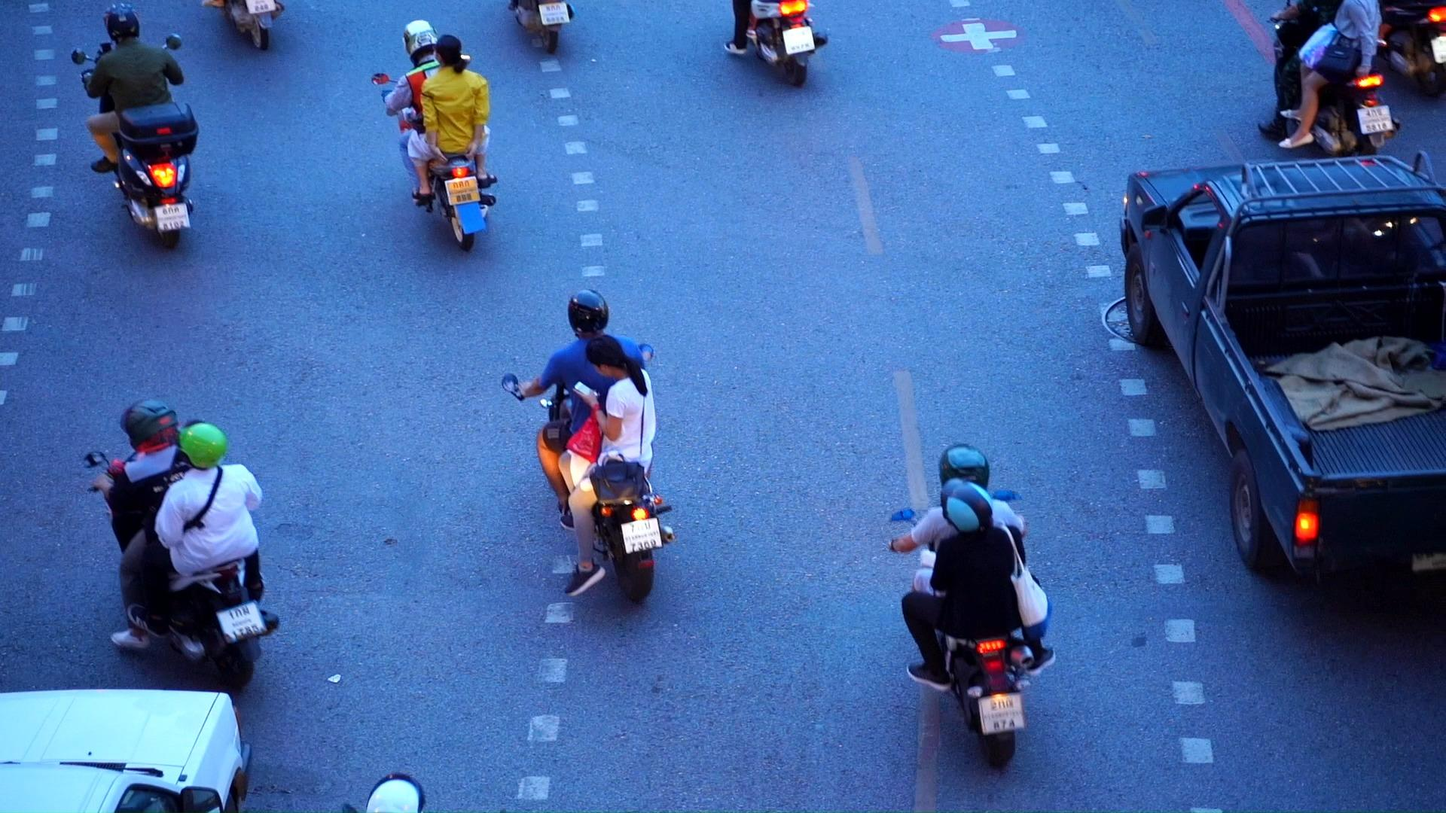driver: (83, 397, 280, 687), (885, 441, 1057, 769), (501, 289, 676, 603), (70, 2, 199, 249), (371, 20, 497, 252), (1257, 0, 1402, 155), (722, 0, 828, 88)
helmet: (120, 397, 179, 455), (940, 477, 994, 539), (169, 417, 229, 471), (937, 441, 990, 491), (365, 773, 426, 813), (568, 290, 609, 340), (103, 1, 140, 45), (402, 20, 438, 65)
no-helmet: (585, 334, 646, 381), (433, 34, 468, 73)
